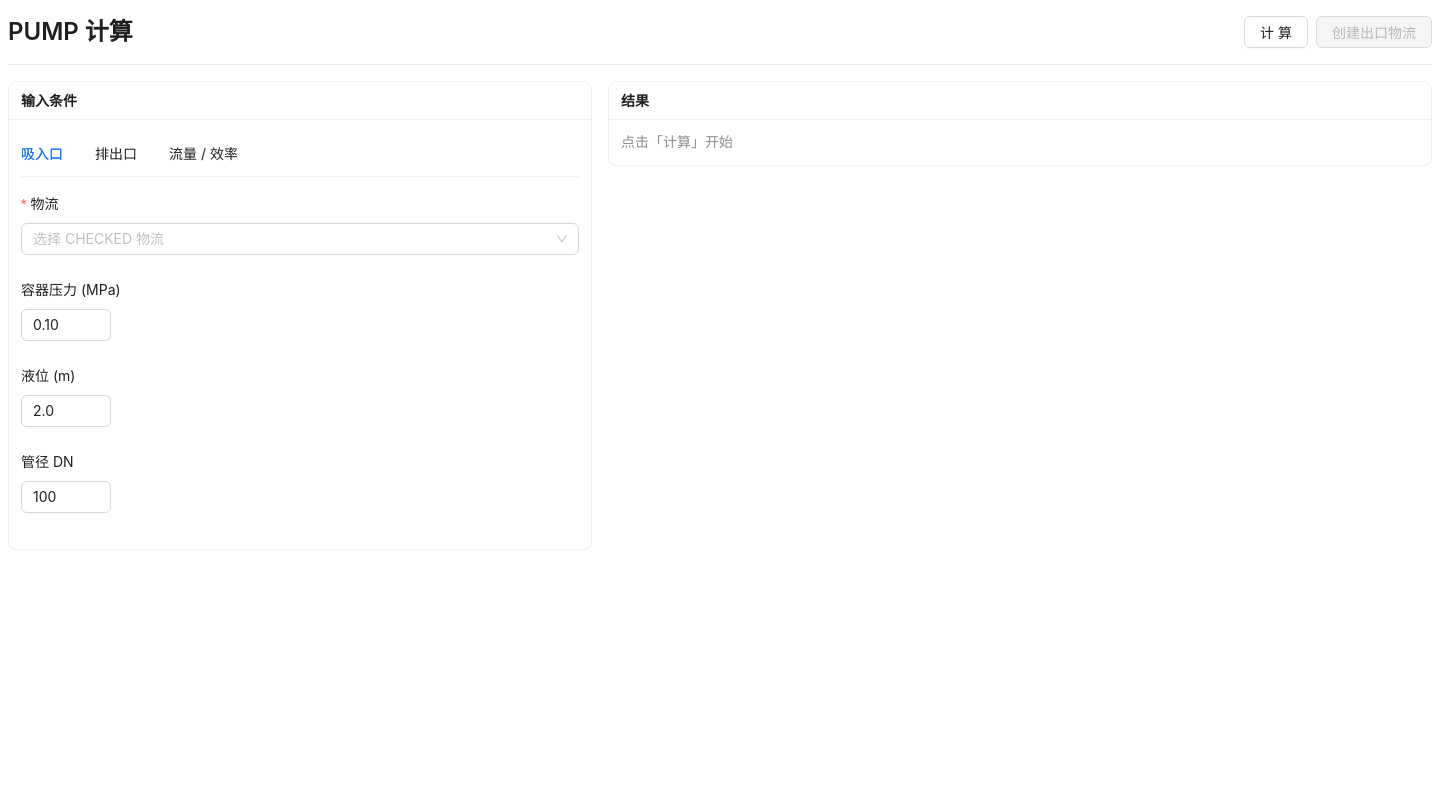
PumpComputePage — 渲染 (P45-3-7) › 切到「排出口」Tab：显示容器压力 + 静扬程 + 管径
Click the tab with test id "pump-tab-discharge": (116, 154) x1=95 y1=143 x2=137 y2=165
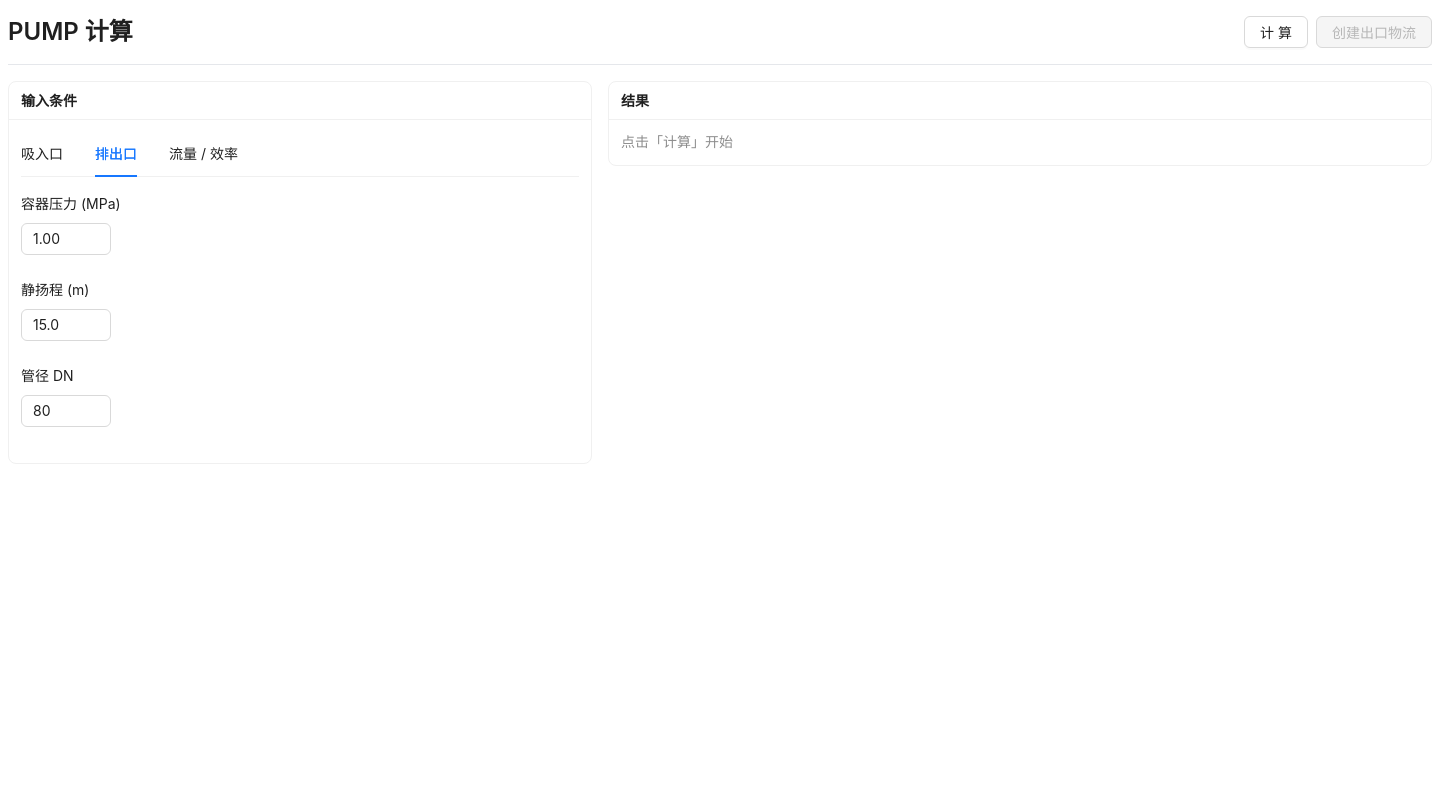
Expected: the number field with test id "pump-discharge-p" is shown, x1=22 y1=224 x2=110 y2=254
Expected: the number field with test id "pump-discharge-head" is shown, x1=22 y1=310 x2=110 y2=340
Expected: the number field with test id "pump-discharge-dn" is shown, x1=22 y1=396 x2=110 y2=426
